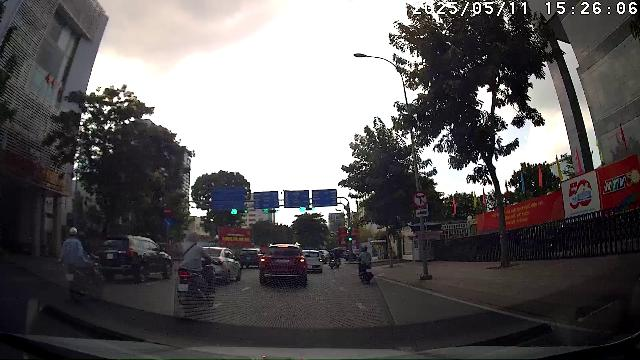137-cam-re-trai-va-re-phai: (412, 190, 428, 208)
